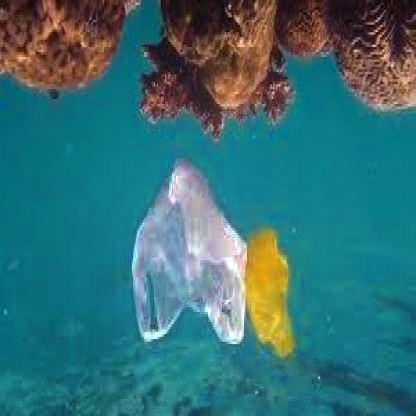pbag: (130, 156, 250, 349), (242, 228, 296, 364)
